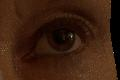eye: (48, 29, 75, 51)
